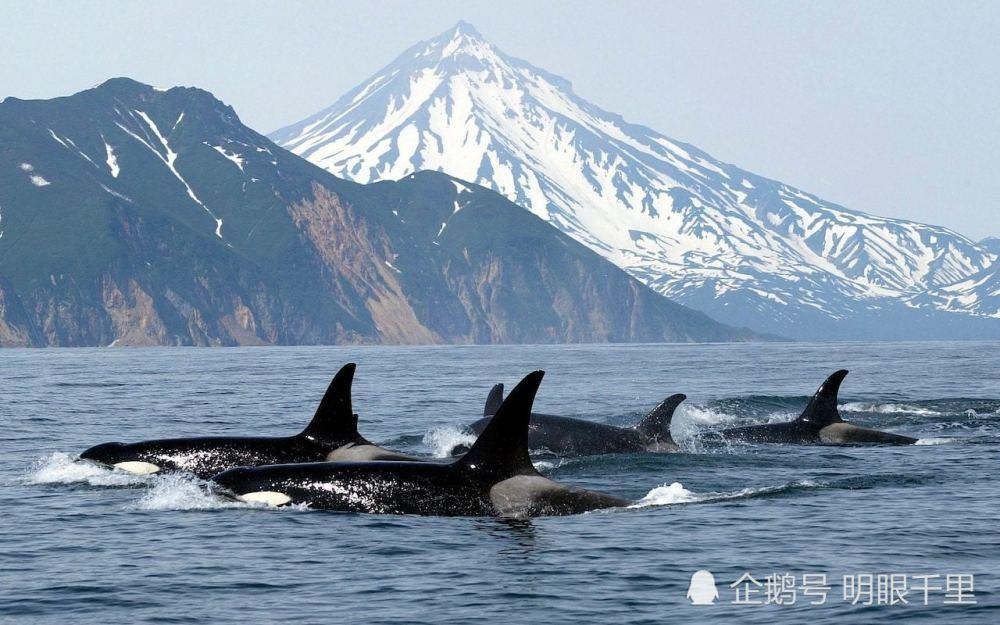fish: (162, 372, 600, 533), (60, 362, 437, 480), (439, 383, 688, 466), (693, 372, 934, 453)
